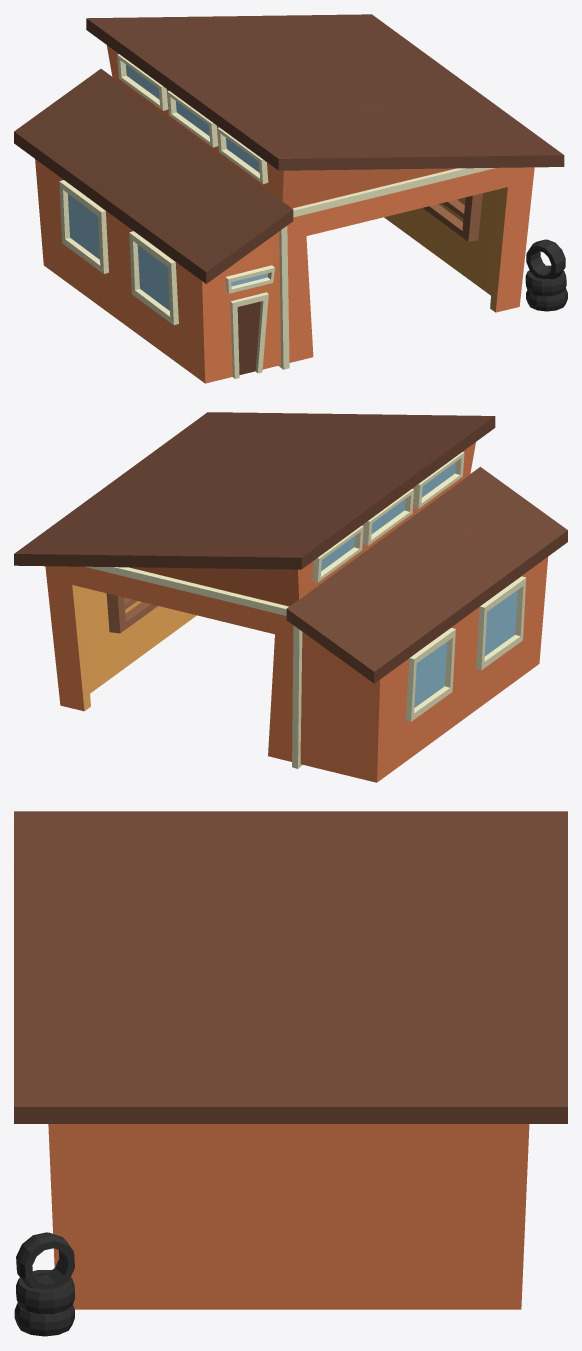
The model's file is Garage.fbx.
The picture shows the model from 3 angles, top to bottom: view 1: azimuth 30°, elevation 25°; view 2: azimuth 150°, elevation 25°; view 3: azimuth 270°, elevation 25°; orthographic projection. The views are drawn at different scales.
Visible parts, largest first — view 1: Garage; view 2: Garage; view 3: Garage.
Part boxes in pixels (x1,y1,x2,y2): Garage: [14, 14, 567, 383]; Garage: [14, 412, 567, 782]; Garage: [14, 811, 567, 1336].
Size of the model in its own units: 792 by 459 by 714.
